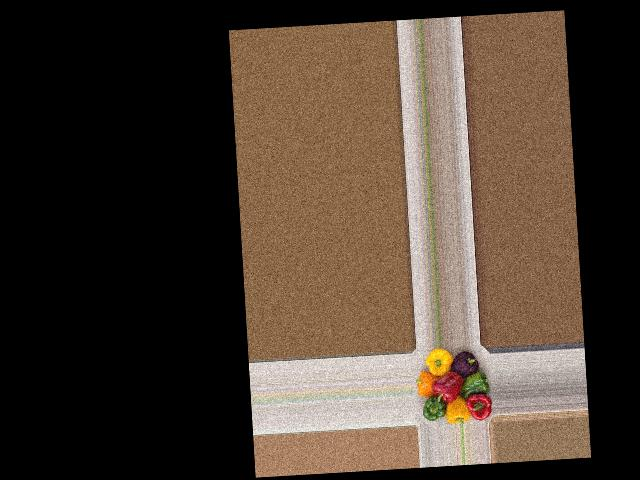bell_pepper: (449, 351, 486, 383)
